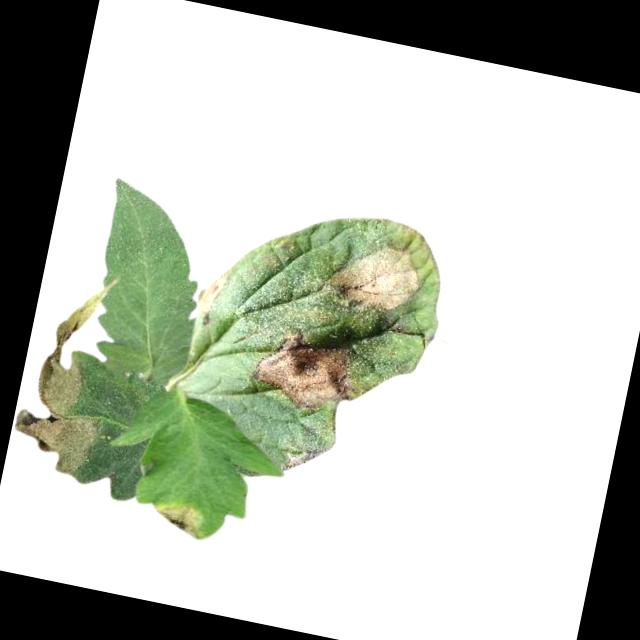Late_blight: (6, 265, 139, 483), (249, 320, 368, 415), (320, 228, 430, 325), (149, 497, 212, 542), (193, 266, 229, 321), (280, 439, 327, 480)
healthy: (76, 176, 221, 390)
